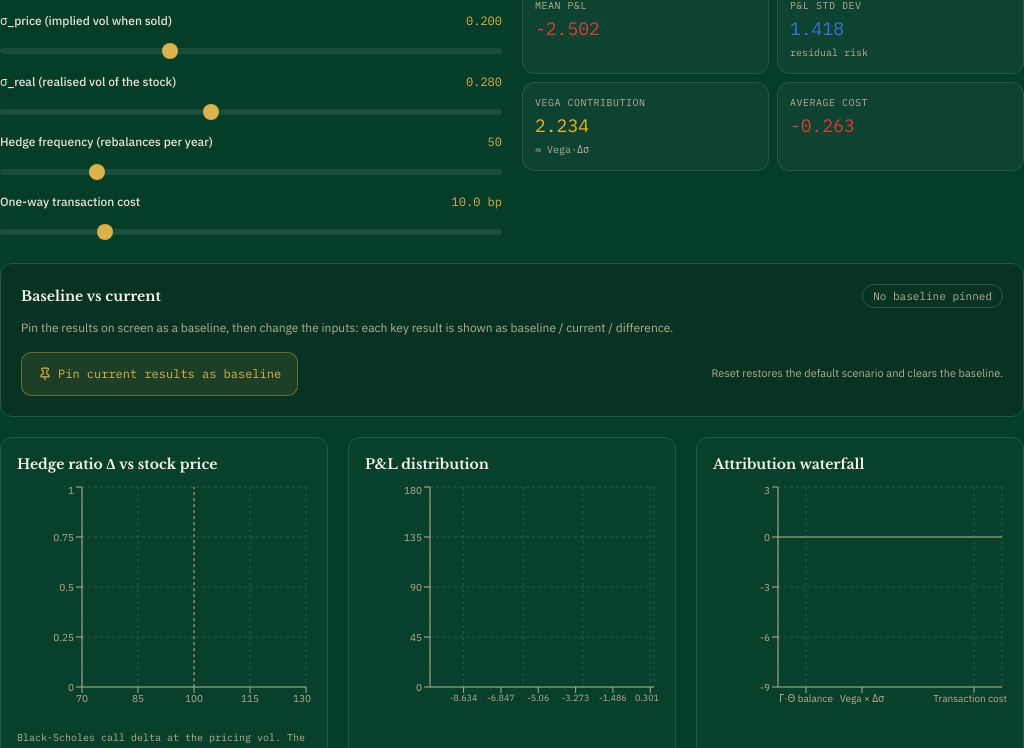
Scenario: pinned baseline survives an update › a newer build + worker swap leaves the pinned hedge baseline in place and does not reload
(page scrolled)
Click the button with test id "compare-pin". click: point(160, 374)
box: [21,352,298,396]
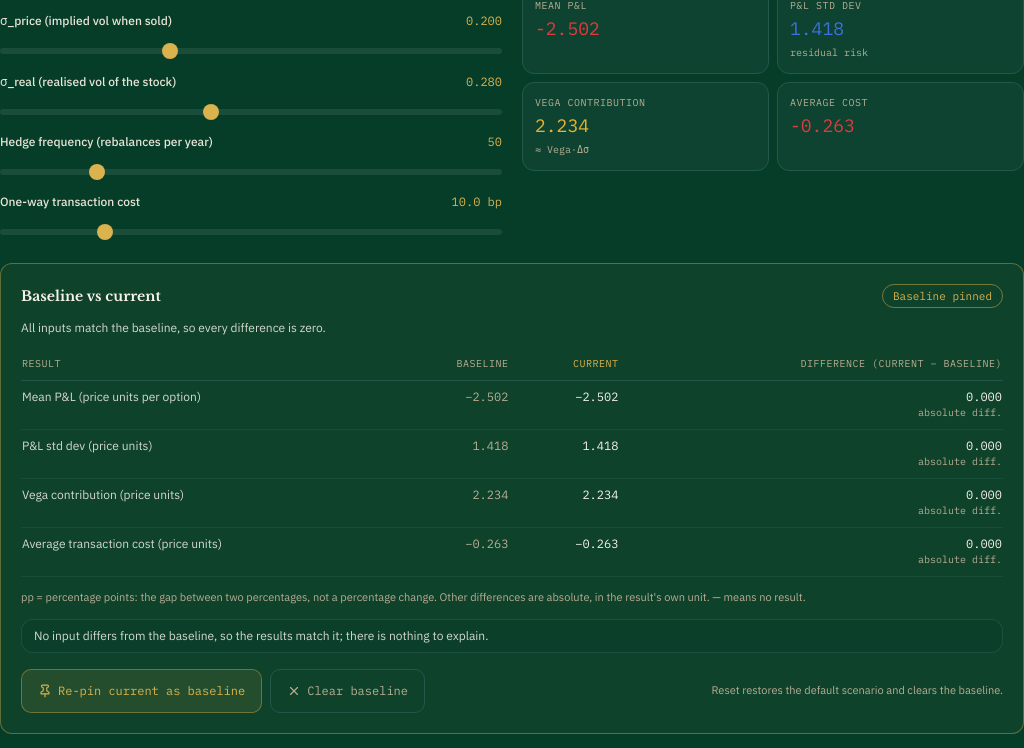
Result: the element with test id "compare-hedge" does not have attribute data-baseline="none"
